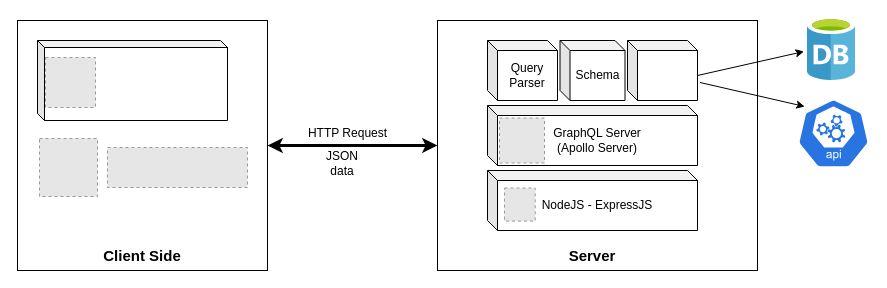
Image size: 887x288. Some labels were removed from this diagram. Grey dashed boxes stand in for pictures. The shapes that lost their labels are listed below. From the top down, each one's box as (x1, y1, x2, y2) in pixels, then its label:
(36, 40, 228, 120): GraphQL Client (Apollo Client)
(626, 40, 698, 100): Resolvers
